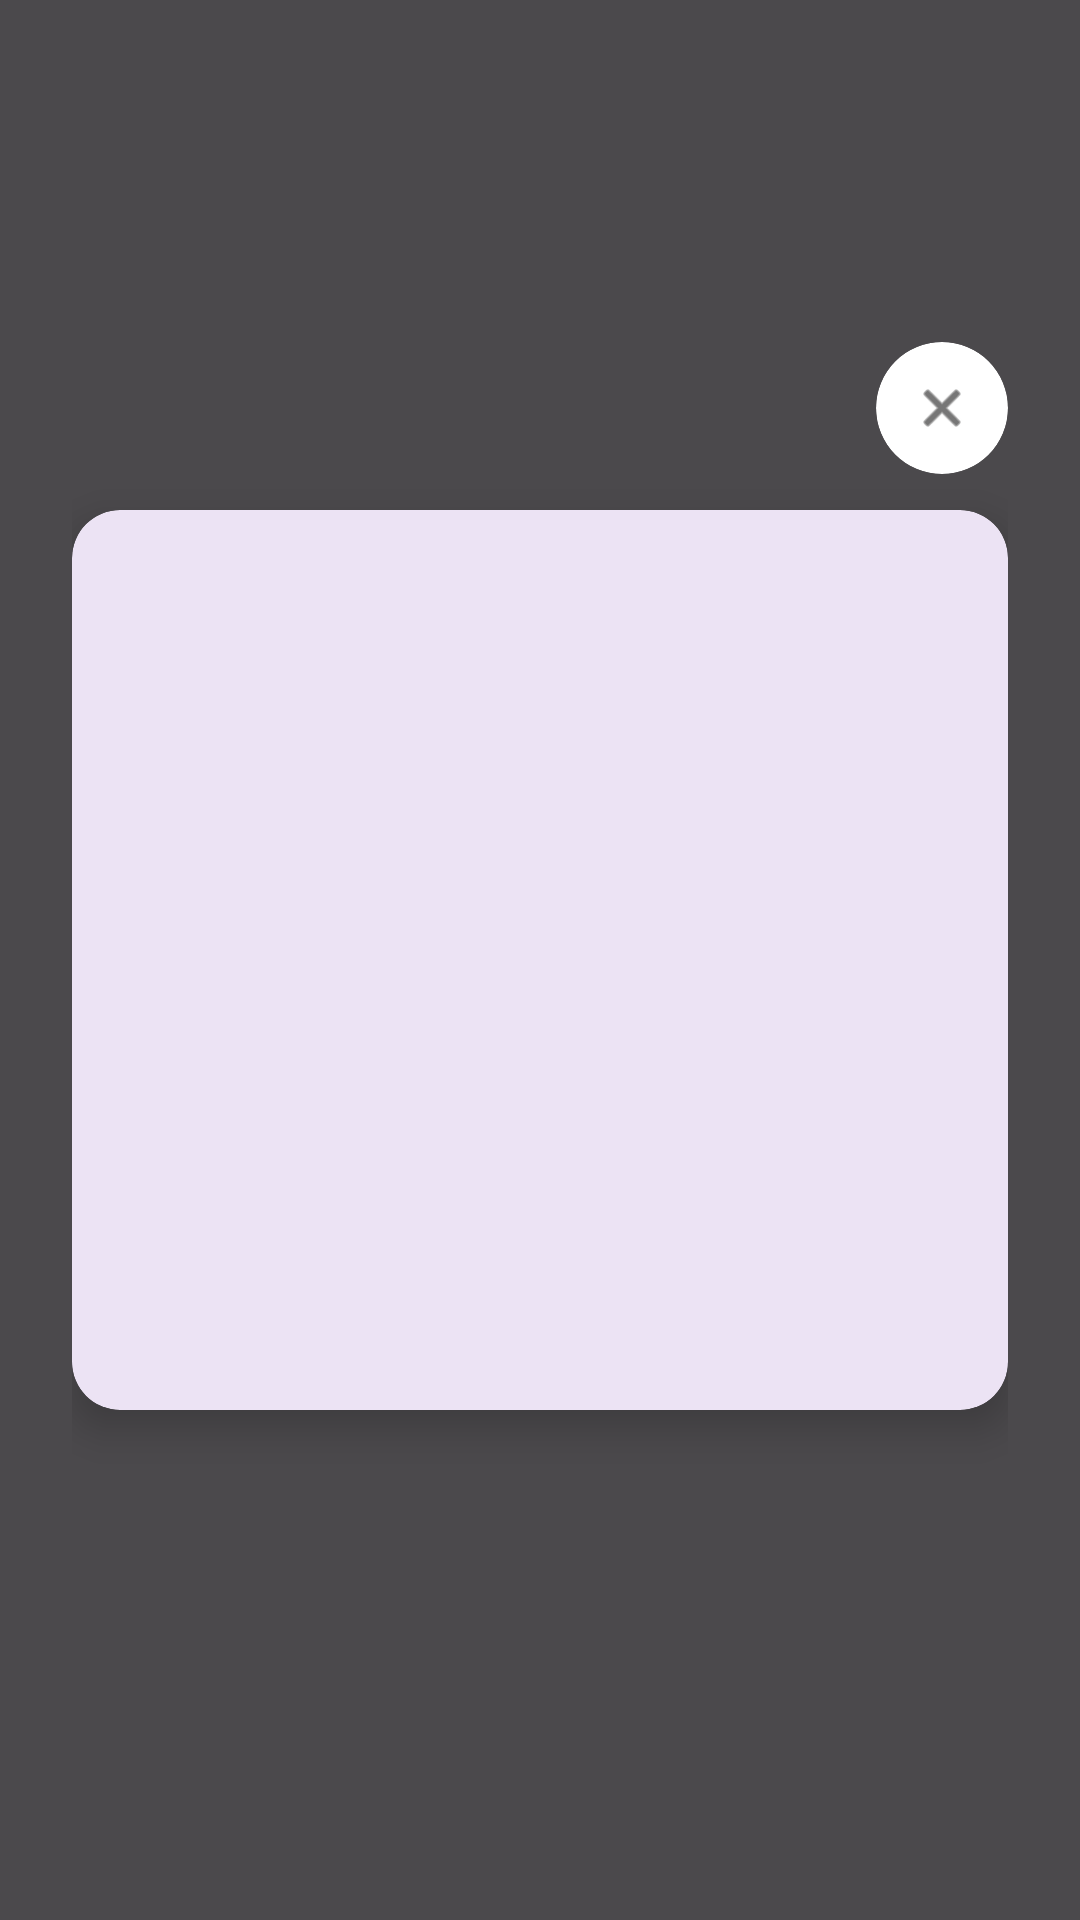

Where icons sit on this 1080 × 1920 app screen, as detection(x1, y1, x2, y2):
close clear cancel: detection(876, 342, 1008, 474)
